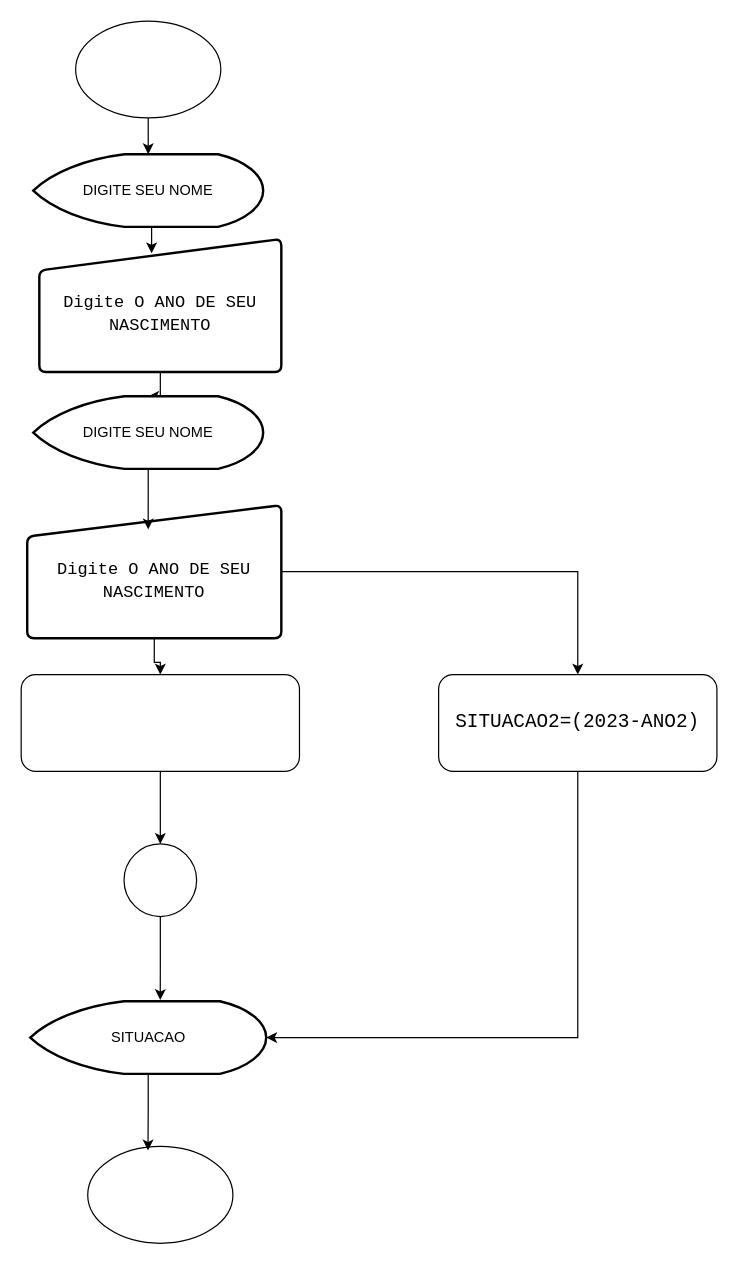
Some shapes in this 738 by 1264 pixel diagram are drawn without their labels. The centre of each missing label's shape, as x and y in pixels:
"fim" belongs at (160,1194).
"inicio" belongs at (147,69).
"SITUACAO1=(2023-ANO1)" belongs at (159,722).
